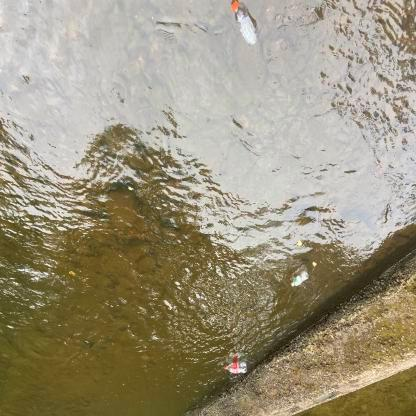Plastic: (230, 0, 260, 48), (290, 269, 310, 288), (224, 361, 248, 375)
